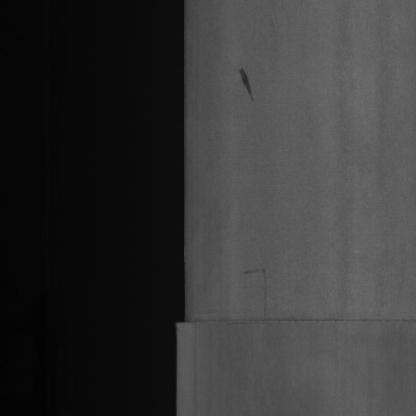welding_line: (170, 306, 414, 339)
